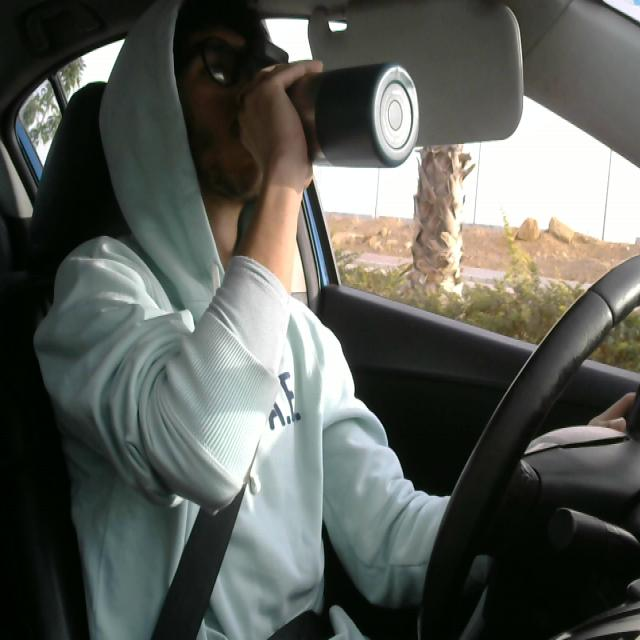drinking: (243, 54, 424, 175)
